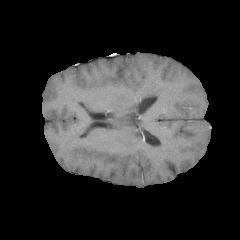glioma: (123, 76, 165, 111)
